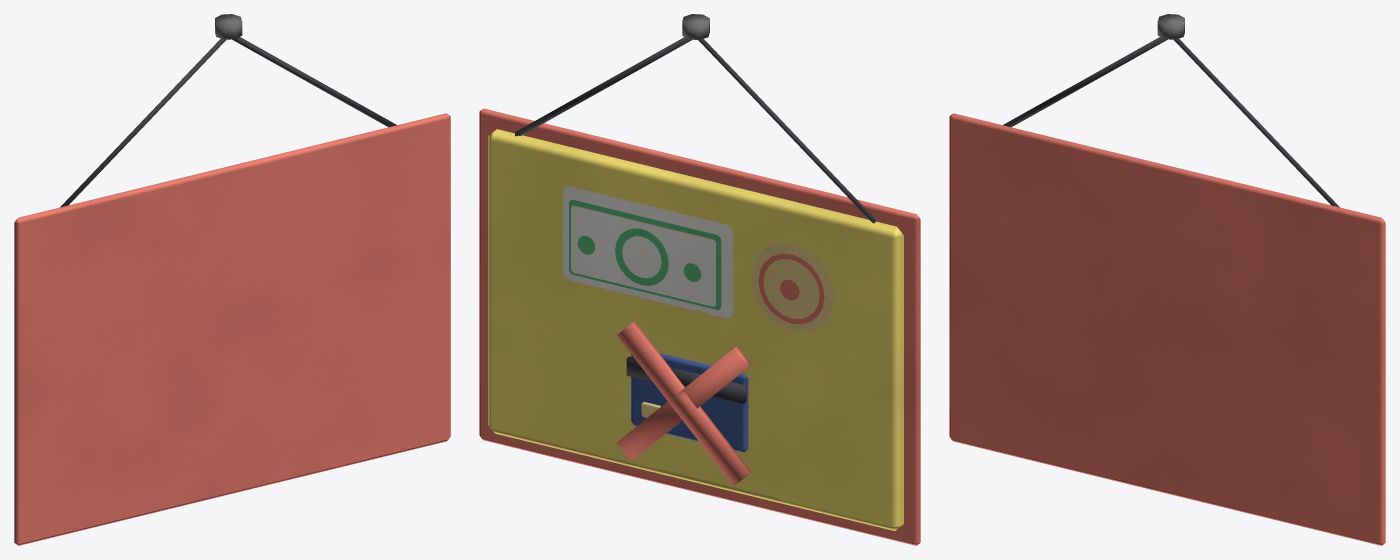
Rendered from Maquininha_CashOnlySign.fbx.
The picture shows the model from 3 angles, left to right: view 1: azimuth 30°, elevation 25°; view 2: azimuth 150°, elevation 25°; view 3: azimuth 330°, elevation 25°; orthographic projection.
Parts seen in each view (by area): view 1: Maquininha_CashOnlySign; view 2: Maquininha_CashOnlySign; view 3: Maquininha_CashOnlySign.
Boxes of the visible parts, <box> form: Maquininha_CashOnlySign: <box>14,14,450,545</box>; Maquininha_CashOnlySign: <box>479,14,920,545</box>; Maquininha_CashOnlySign: <box>949,14,1385,545</box>.
Size of the model in its own units: 0.64 by 0.66 by 0.058.
1 material, 1 textured.
